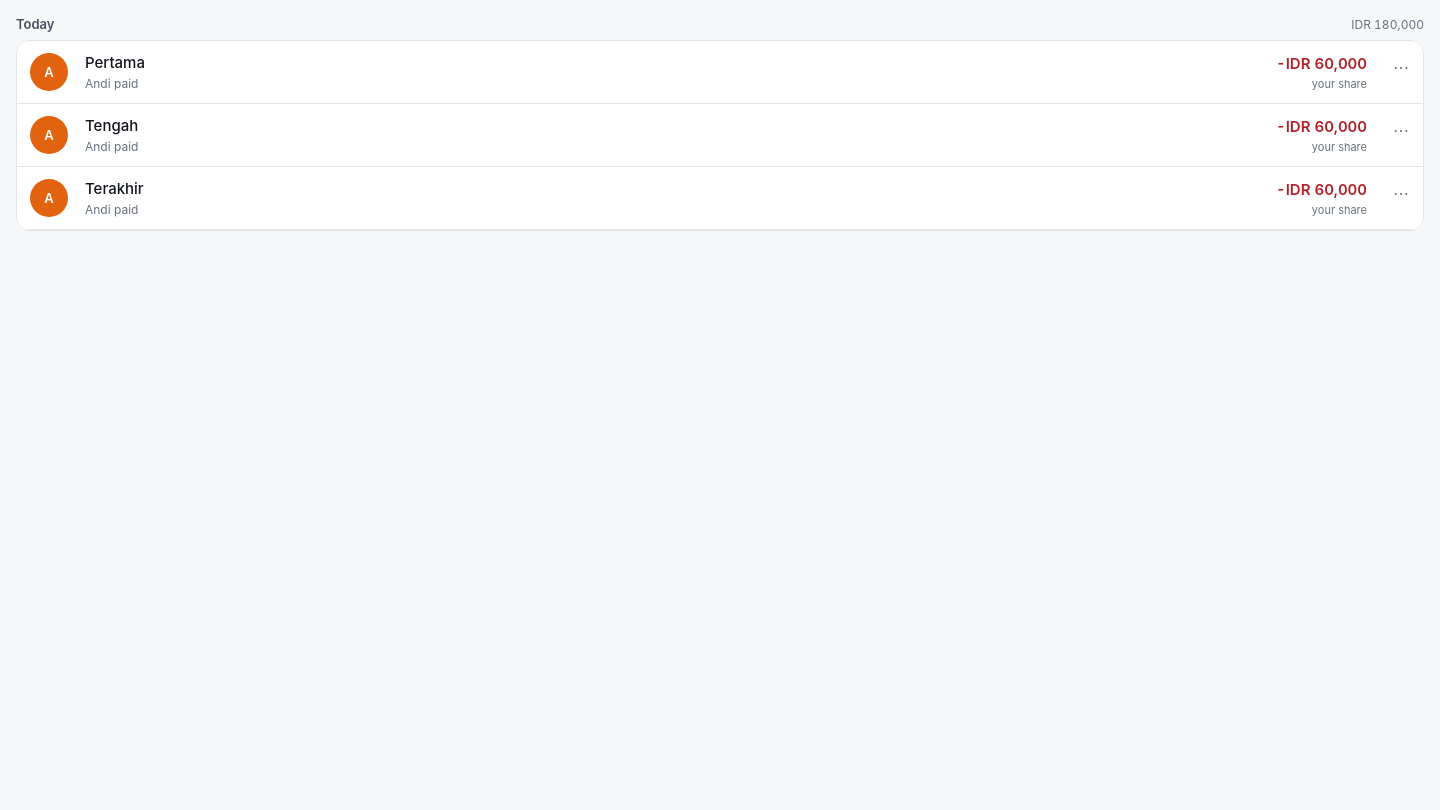
it: TransactionList › opens action sheet for Terakhir row
Click the 3rd button "⋯": (1401, 193) [1379,171,1423,215]
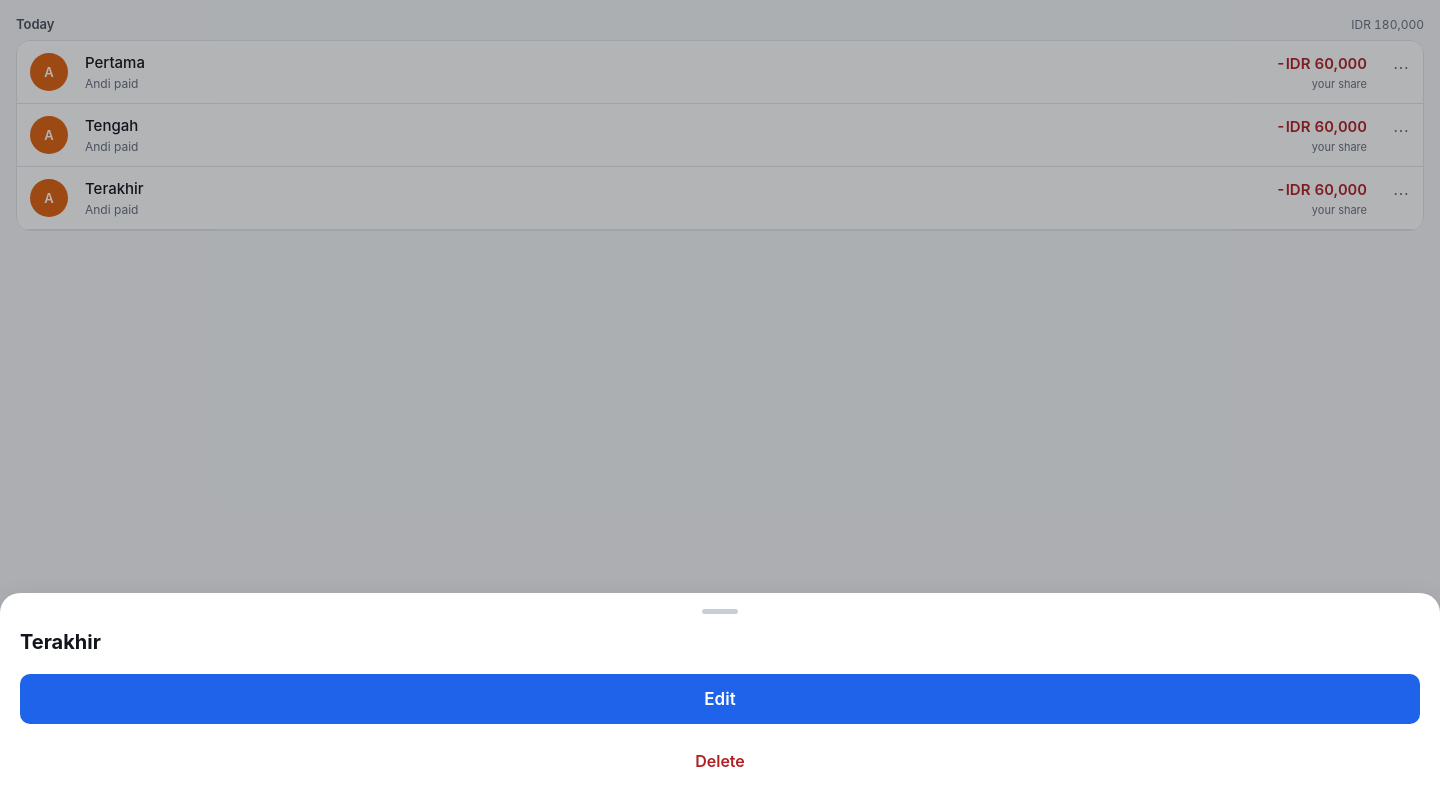
Expected: the dialog "Terakhir" is shown, [0,593,1439,809]
